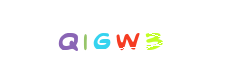3: (98, 0, 178, 80)
G: (72, 0, 152, 80)
I: (62, 0, 142, 80)
Q: (31, 0, 111, 80)
W: (87, 0, 167, 80)
